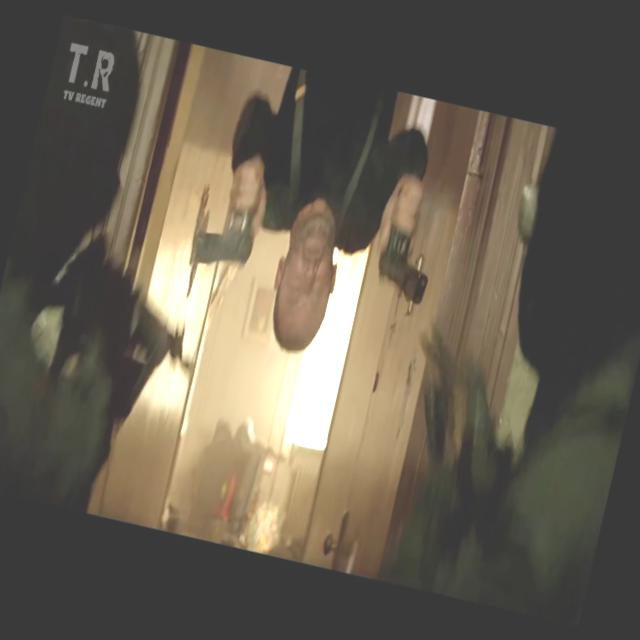handgun: (178, 154, 280, 310), (354, 174, 456, 329)
